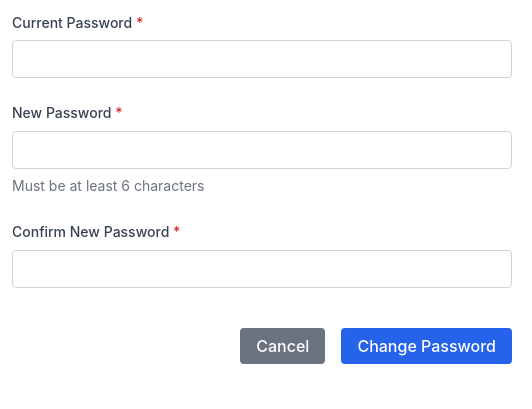
Test: PasswordChangeForm - Real-time Validation › should clear validation error when user corrects new password
Trigger validation error
Click the password field labelled "New Password" at [262, 150], box [12,131,512,169]
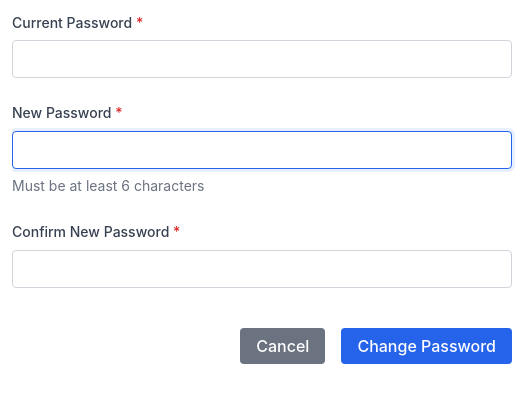
Press Tab
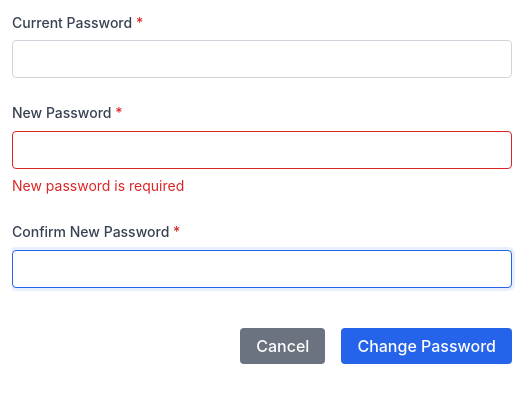
Expected: the text "New password is required" is shown, [12,177,184,194]
Correct the input
Type "newpassword123" into the password field labelled "New Password" at [262, 150], box [12,131,512,169]
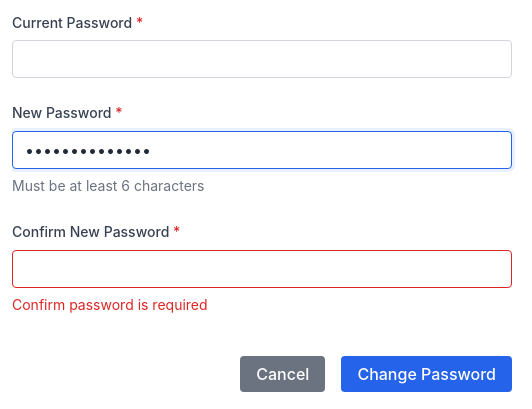
Expected: the text "New password is required" is gone
